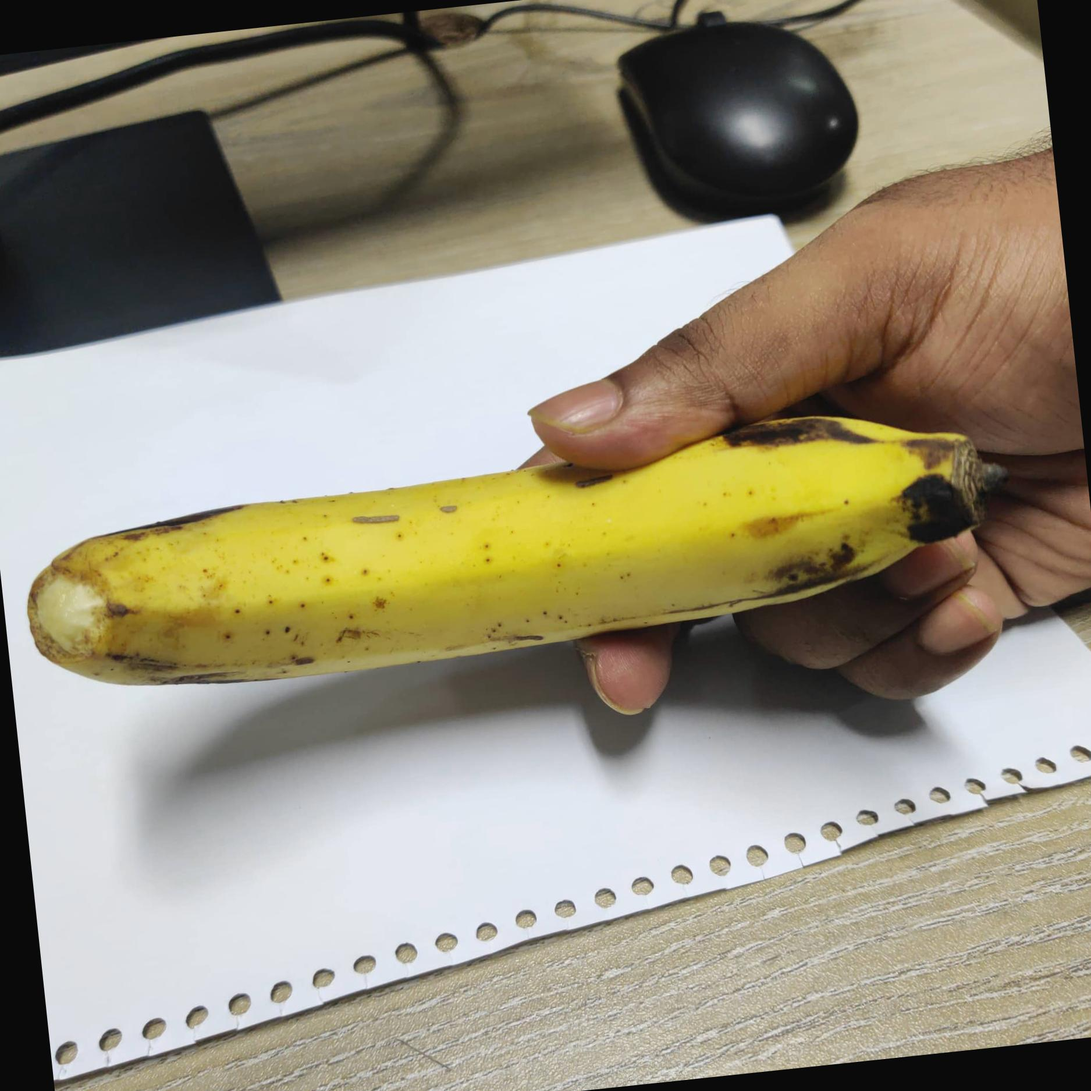Banana Ripe: (3, 335, 1063, 845)
